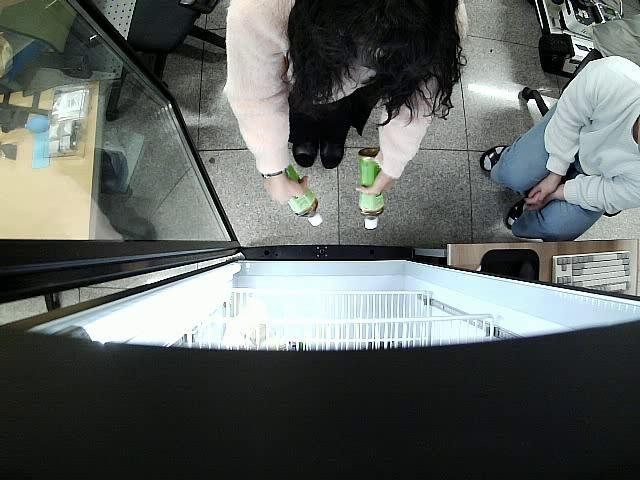19_17cha: (282, 163, 324, 230), (356, 147, 386, 232)
